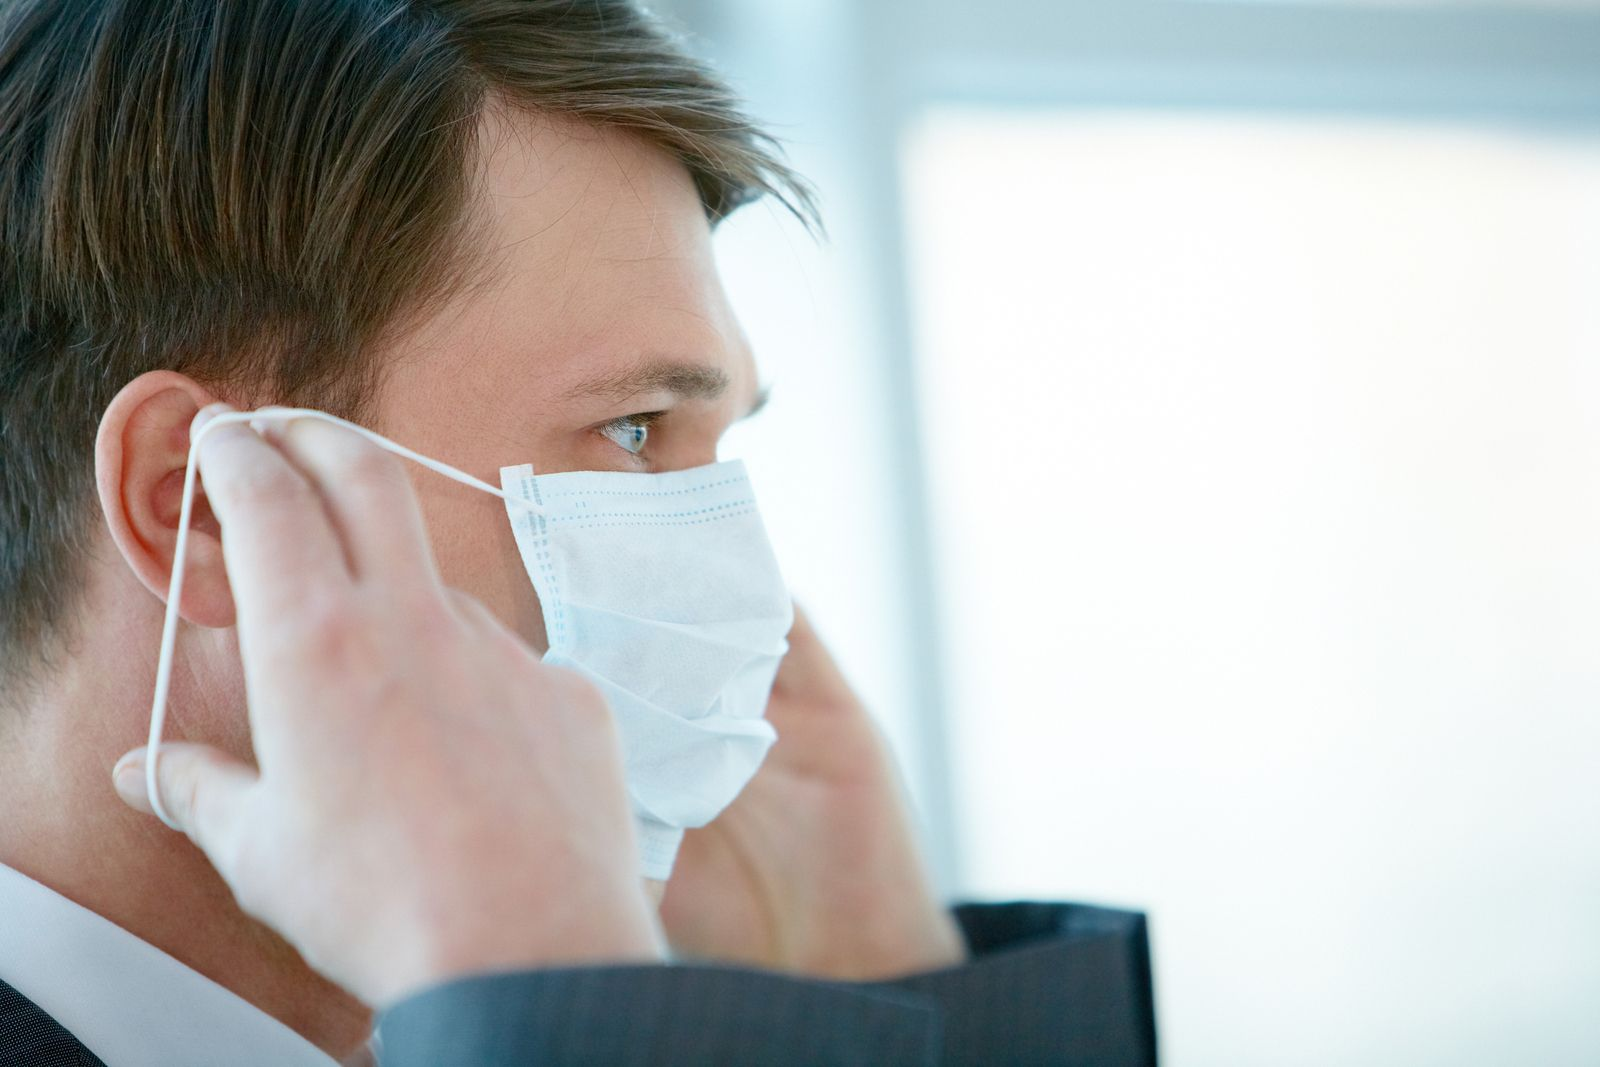with_mask: (23, 4, 816, 928)
